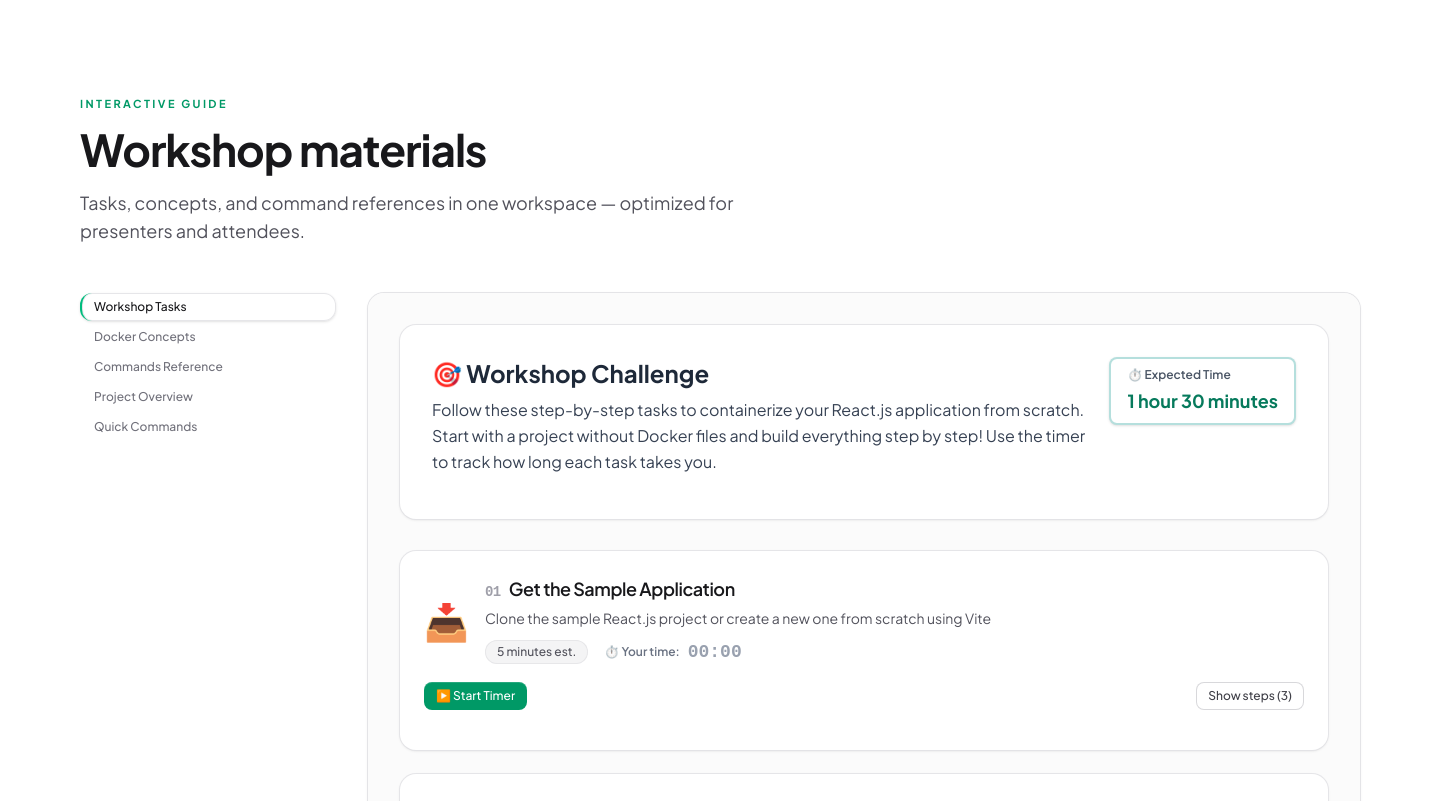
Test: QuickStart Component › switches to Commands Reference tab when clicked
This screenshot has width=1440, height=801.
Click the tab "Commands Reference" at (208, 367), box [80, 353, 336, 381]
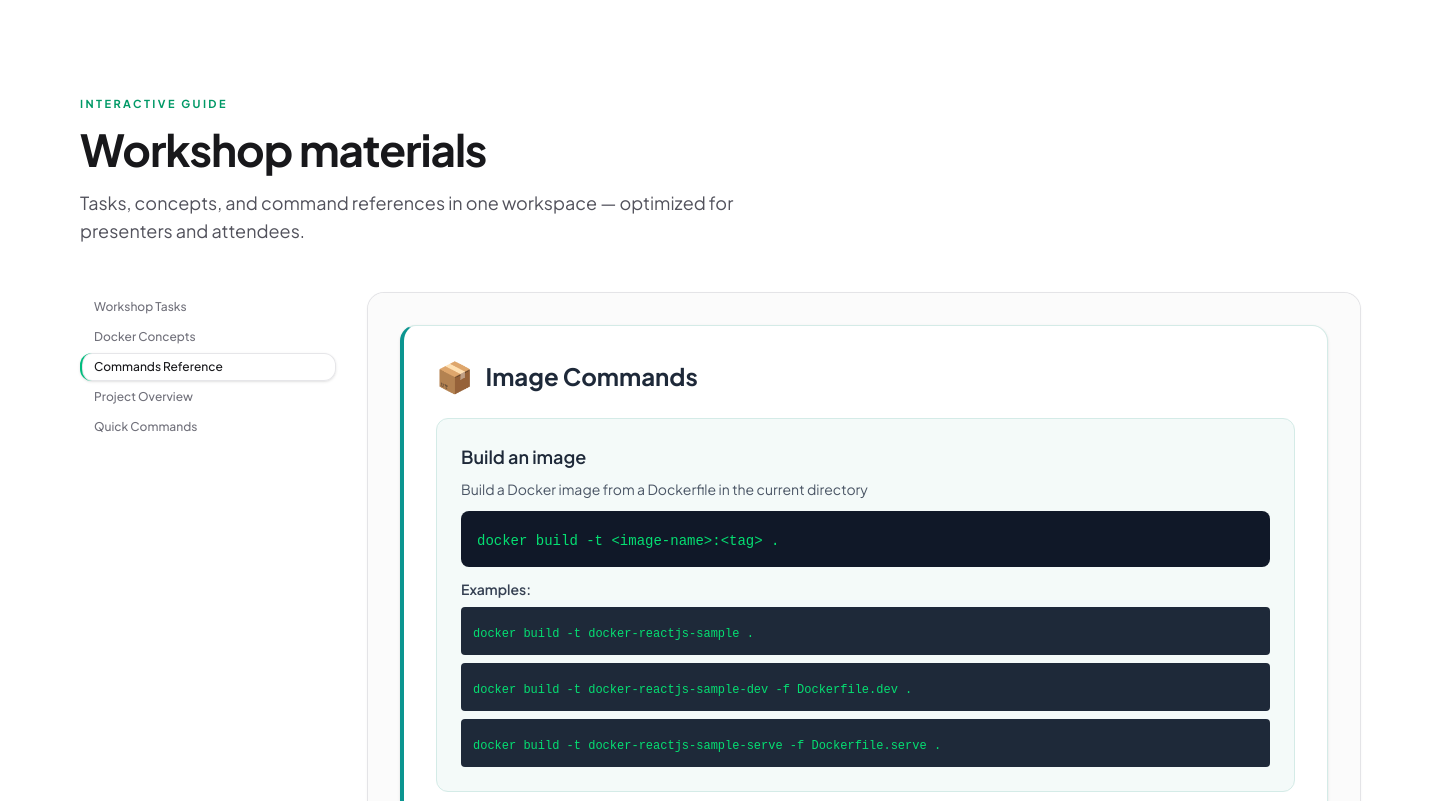
Expected: the heading "Image Commands" is shown, [485, 360, 698, 392]
